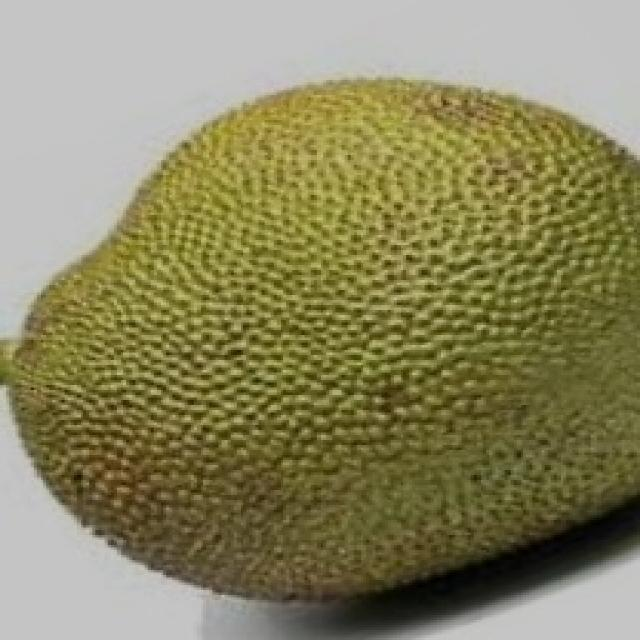Fruit: (267, 234, 640, 637), (0, 300, 345, 640), (221, 50, 640, 320)
